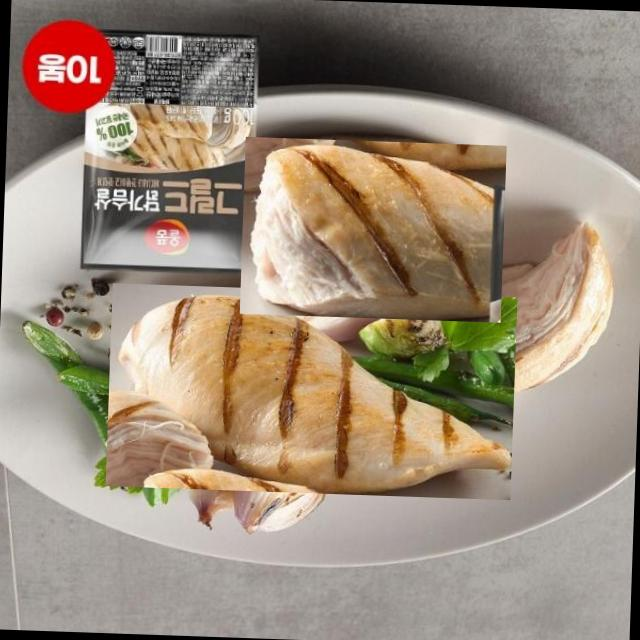chicken: (105, 282, 518, 500), (238, 136, 506, 324)
